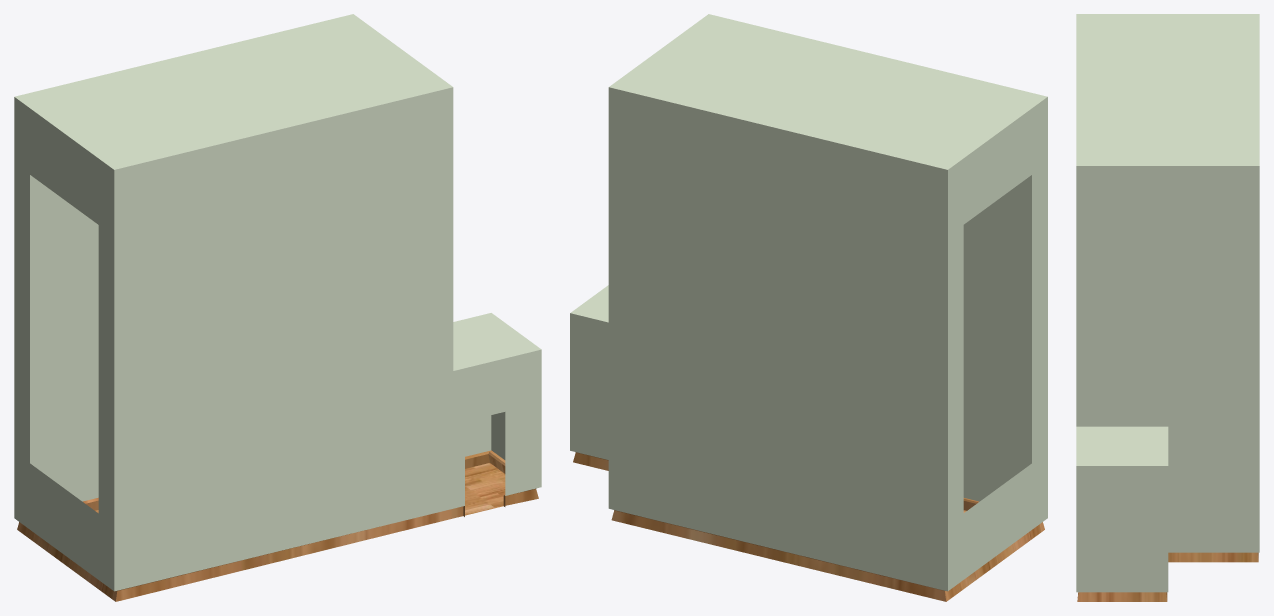
The picture shows the model from 3 angles, left to right: view 1: azimuth 30°, elevation 25°; view 2: azimuth 150°, elevation 25°; view 3: azimuth 270°, elevation 25°; orthographic projection. The views are drawn at different scales.
Visible parts, largest first — view 1: Cubo; view 2: Cubo; view 3: Cubo.
Part boxes in pixels (x1,y1,x2,y2): Cubo: (14,14,541,601); Cubo: (570,14,1047,601); Cubo: (1076,14,1259,601).
Bounding box in the file's own units: 10.61 × 10.27 × 4.3.
2 materials, 1 textured.
